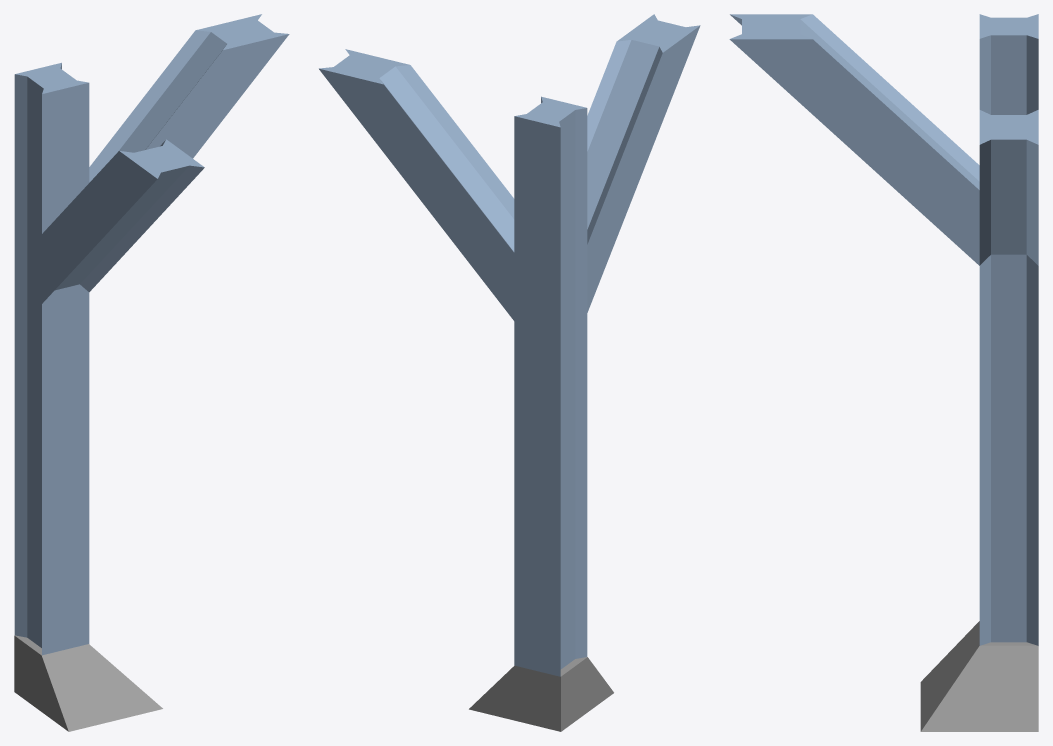
Rendered from pillar_metal_corner.fbx.
3 views of the same model, side by side, from view 1: azimuth 30°, elevation 25°; view 2: azimuth 150°, elevation 25°; view 3: azimuth 270°, elevation 25° (orthographic). The views are drawn at different scales.
Visible parts, largest first — view 1: Cube; view 2: Cube; view 3: Cube.
Part boxes in pixels (left/top/right/bottom): Cube: left=14, top=14, right=289, bottom=731; Cube: left=319, top=14, right=700, bottom=731; Cube: left=729, top=14, right=1038, bottom=731.
Bounding box in the file's own units: 1049 × 2496 × 1047.
